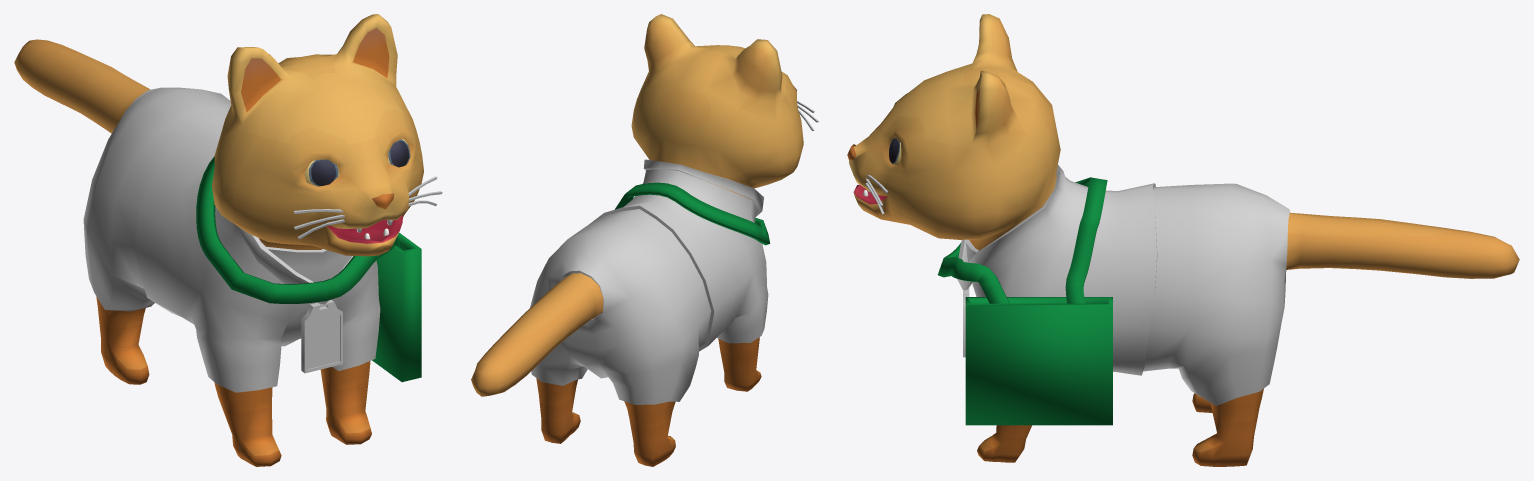
The model's file is Student Cat_Tote.obj.
The picture shows the model from 3 angles, left to right: view 1: azimuth 30°, elevation 25°; view 2: azimuth 150°, elevation 25°; view 3: azimuth 270°, elevation 25°; orthographic projection. The views are drawn at different scales.
Visible parts, largest first — view 1: Cat001, Clothes, ToteBag; view 2: Clothes, Cat001, ToteBag; view 3: Cat001, Clothes, ToteBag.
Boxes of the visible parts, x1,y1,x2,y2 form: Cat001: [14, 14, 442, 466]; Clothes: [83, 87, 380, 392]; ToteBag: [196, 156, 421, 382]; Clothes: [530, 159, 768, 404]; Cat001: [471, 14, 818, 466]; ToteBag: [615, 182, 770, 245]; Cat001: [847, 14, 1519, 466]; Clothes: [957, 165, 1289, 405]; ToteBag: [937, 177, 1112, 425].
Size of the model in its own units: 70.98 by 146 by 227.
